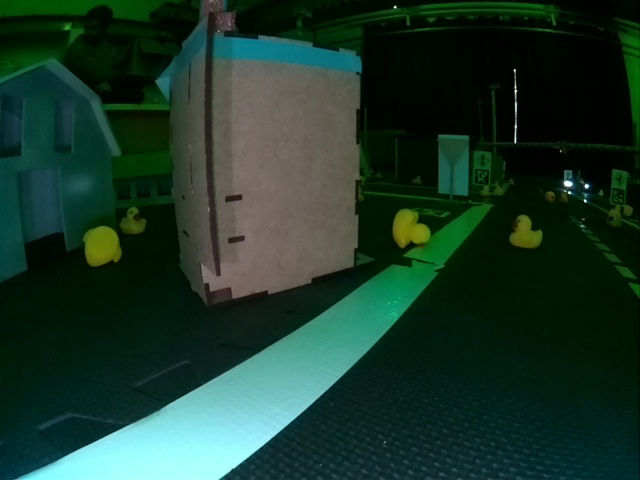Duckie: (393, 208, 430, 247), (83, 228, 121, 263), (509, 216, 539, 249), (122, 207, 147, 233), (546, 193, 554, 200)
QR code: (475, 169, 488, 184), (612, 189, 624, 204)
